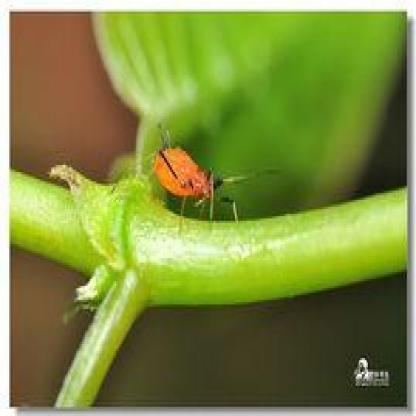aphid: (150, 119, 248, 228)
